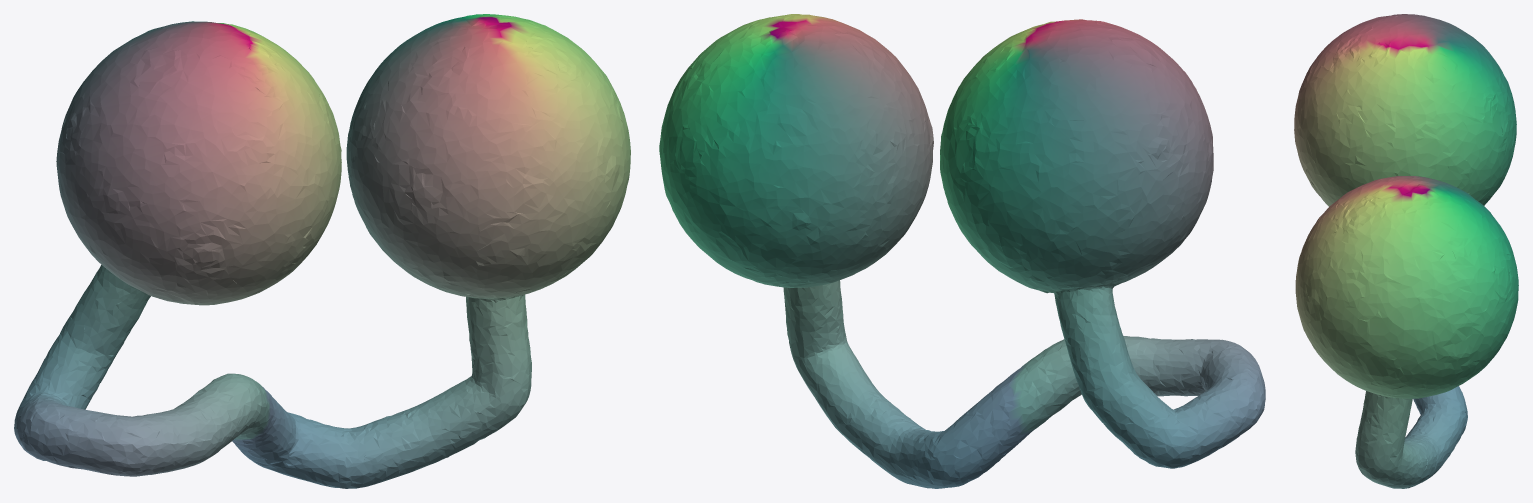
File: twoballs-7.off.obj
3 renders of one model, left to right at view 1: azimuth 30°, elevation 25°; view 2: azimuth 150°, elevation 25°; view 3: azimuth 270°, elevation 25°, orthographic. The views are drawn at different scales.
Bounding box in the file's own units: 1.66 × 1.32 × 0.6897.
